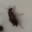cockroach: (7, 7, 19, 27)
